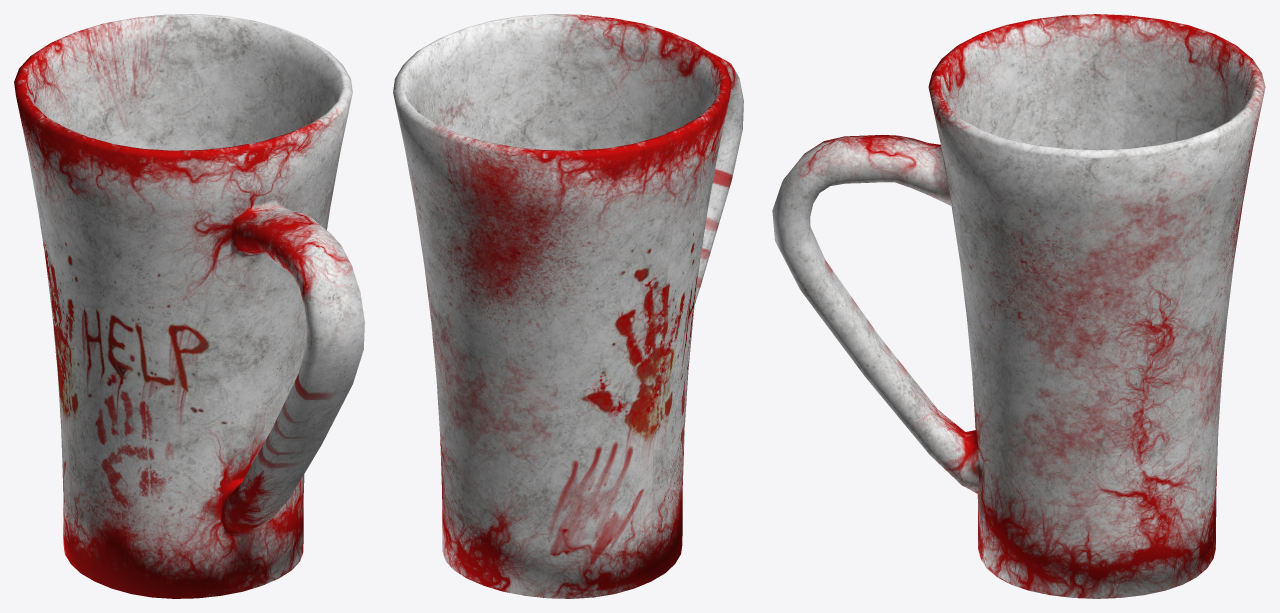
Rendered from horror_cup.glb.
3 renders of one model, left to right at view 1: azimuth 30°, elevation 25°; view 2: azimuth 150°, elevation 25°; view 3: azimuth 270°, elevation 25°, orthographic.
Parts seen in each view (by area): view 1: Cube.014; view 2: Cube.014; view 3: Cube.014.
Boxes of the visible parts, x1,y1,x2,y2 form: Cube.014: (14,14,364,598); Cube.014: (393,14,743,598); Cube.014: (772,14,1265,598).
Bounding box in the file's own units: 0.9438 × 1.44 × 1.38.
Materials: 1 (1 with a texture image).
